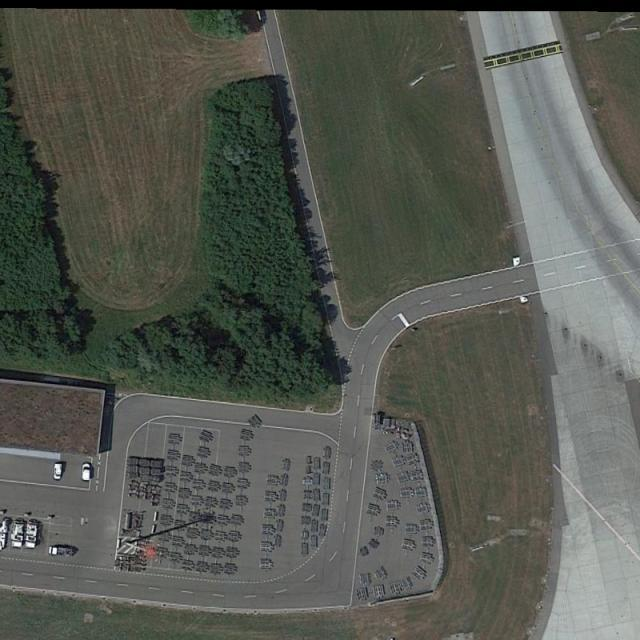vehicle: (54, 461, 62, 480), (82, 464, 90, 483)
